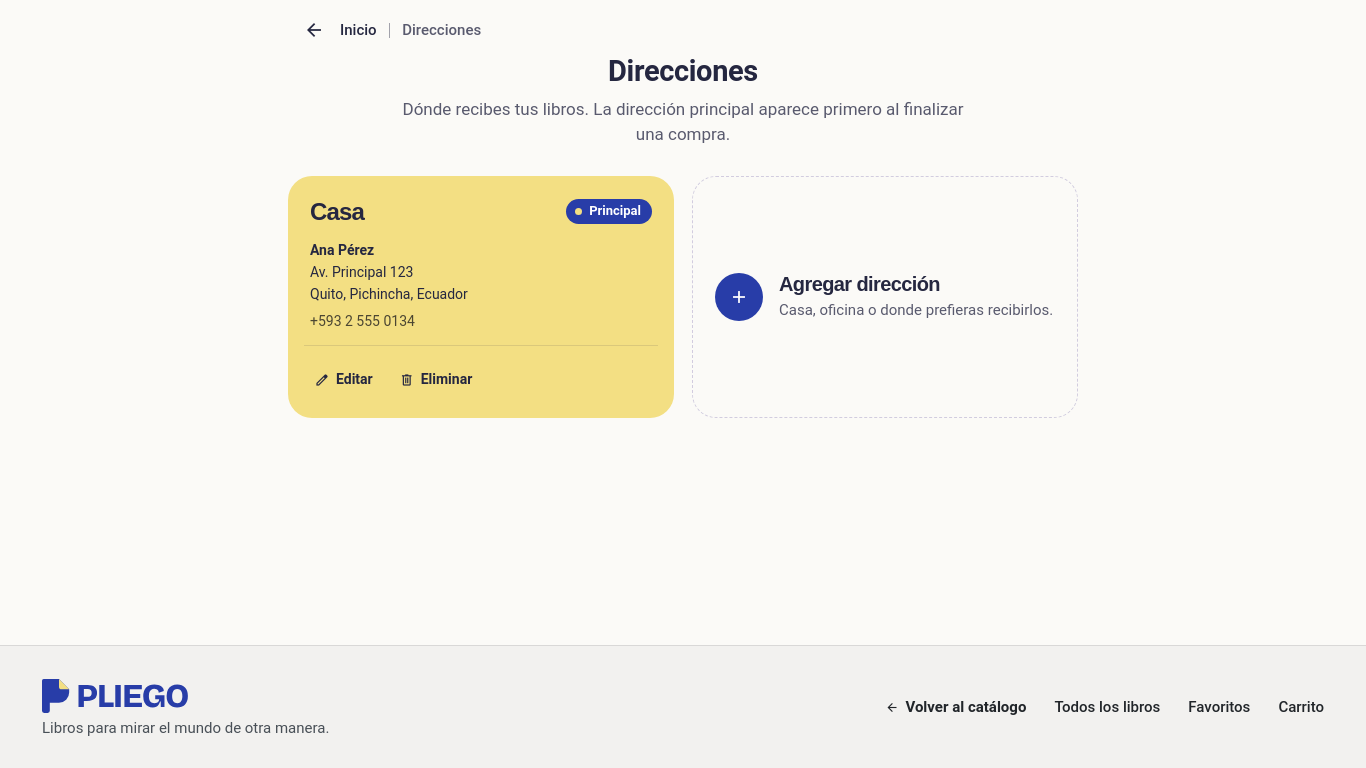
it: customer account › requires confirmation before deleting an address
The image size is (1366, 768).
Click the button named "Eliminar Casa" at (436, 380), box x1=389 y1=358 x2=482 y2=402
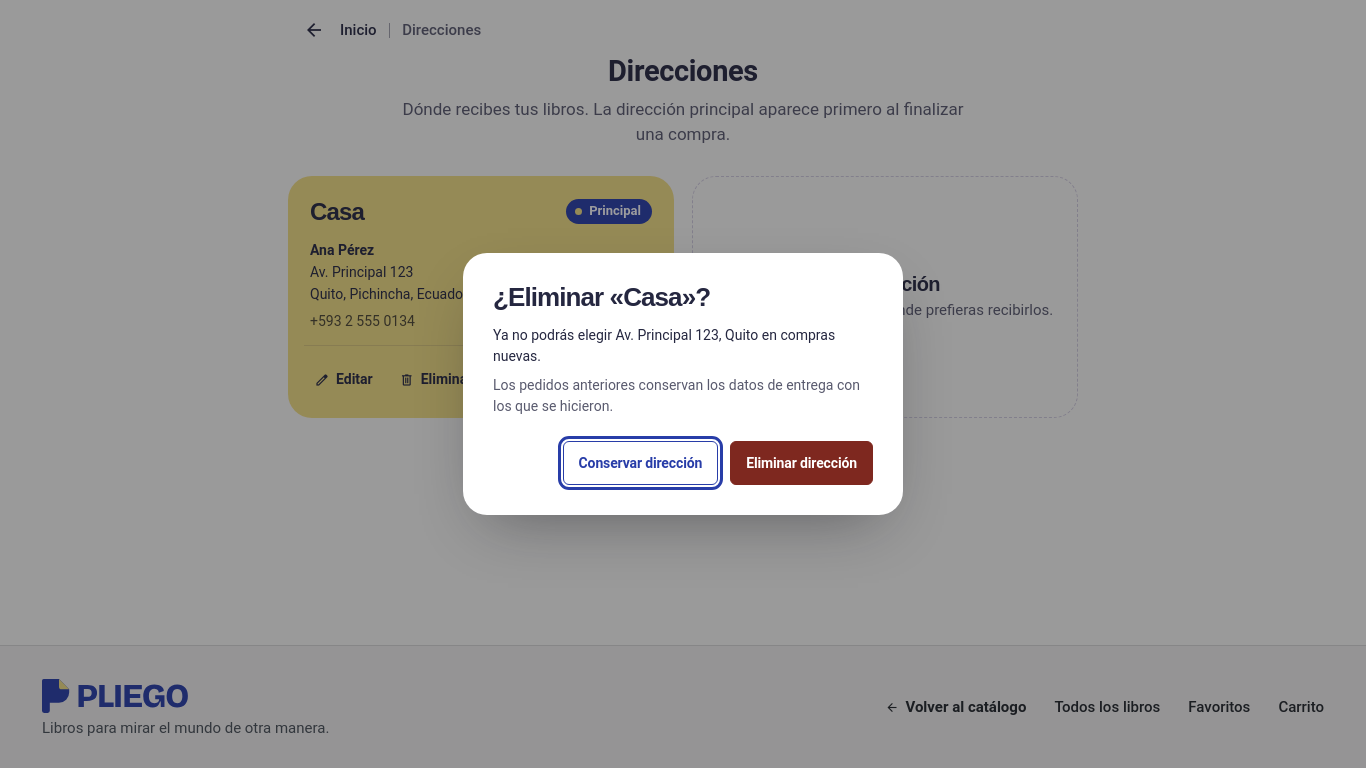
Expected: the text "pedidos anteriores conservan" is shown, x1=493 y1=377 x2=860 y2=414
Click the button "Eliminar dirección" at (802, 463), box x1=730 y1=441 x2=873 y2=485
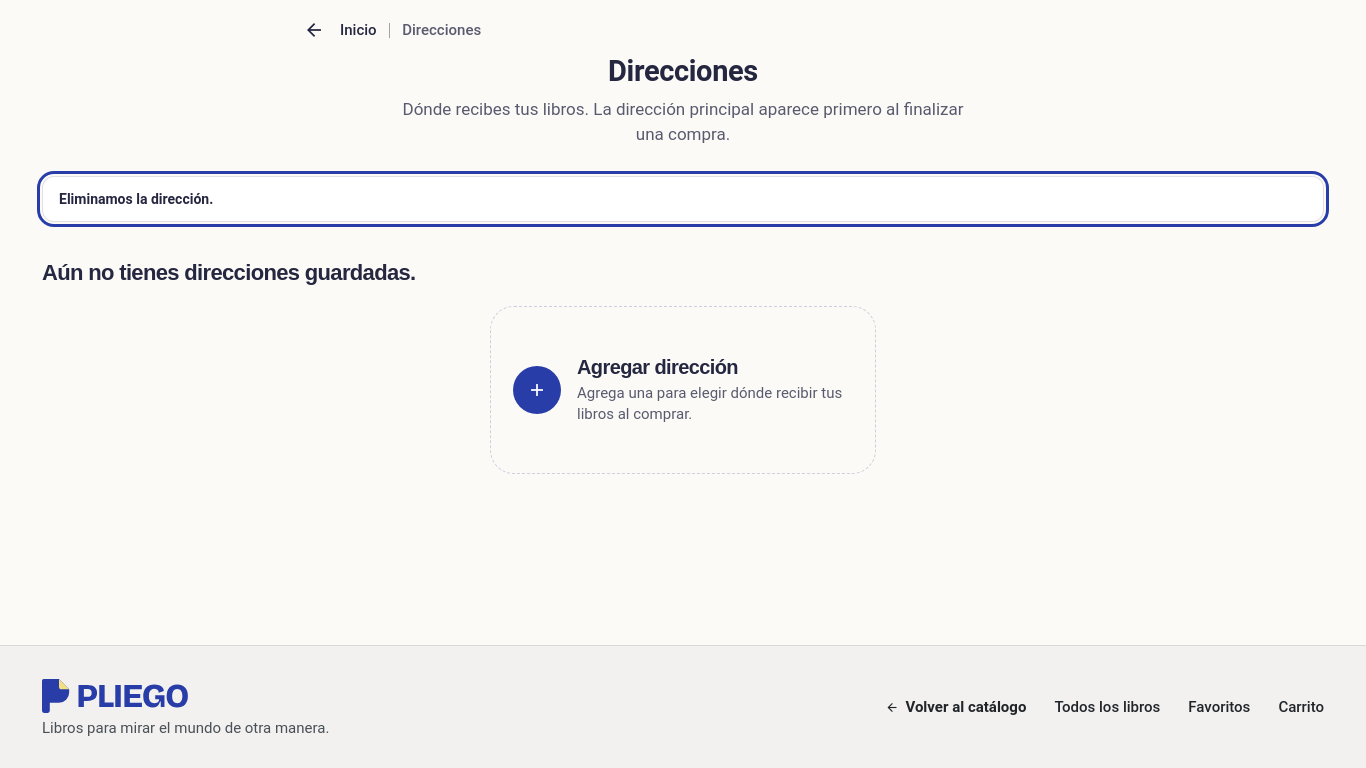
Expected: the heading "Aún no tienes direcciones guardadas." is shown, x1=42 y1=260 x2=416 y2=285
